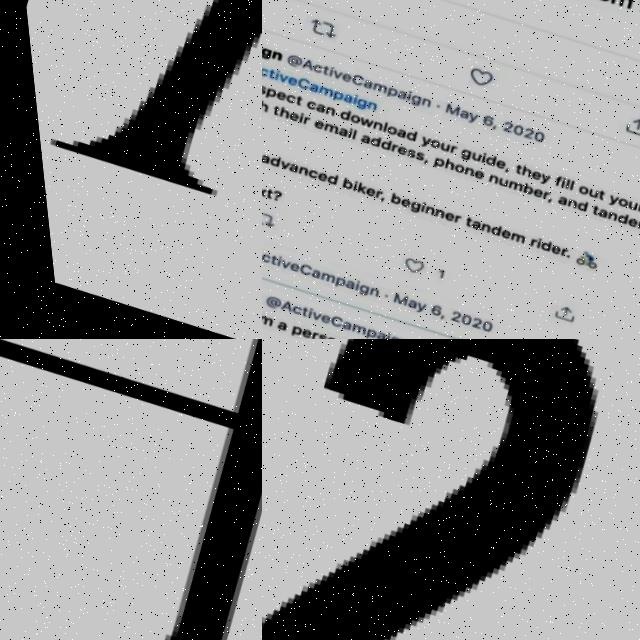2: (262, 339, 640, 640), (475, 118, 489, 132), (419, 307, 433, 321)
A: (297, 60, 311, 74), (270, 302, 285, 314), (281, 164, 293, 176), (357, 82, 368, 93), (303, 85, 314, 96), (337, 96, 348, 107), (309, 105, 320, 116), (332, 129, 343, 140), (354, 137, 365, 148), (549, 200, 560, 211), (301, 271, 312, 282), (397, 302, 408, 313), (392, 94, 403, 104), (390, 132, 401, 142), (589, 213, 599, 224), (334, 282, 345, 292), (331, 324, 342, 334), (266, 323, 277, 333), (454, 115, 464, 125), (463, 224, 473, 234), (365, 334, 375, 339)
B: (381, 195, 395, 209), (333, 180, 348, 193), (515, 187, 527, 200)
C: (289, 264, 305, 279), (345, 76, 361, 90), (292, 79, 306, 93), (319, 317, 334, 330), (279, 95, 292, 107), (300, 170, 313, 182), (300, 102, 312, 114), (281, 306, 293, 317), (308, 66, 319, 77)
D: (318, 174, 333, 188), (363, 137, 377, 151), (372, 141, 387, 154), (332, 111, 346, 124), (398, 133, 412, 146), (477, 158, 491, 171), (481, 228, 495, 241), (568, 205, 580, 218), (609, 218, 621, 231), (531, 244, 543, 257), (263, 157, 275, 169)
E: (269, 92, 282, 104), (281, 113, 294, 125), (357, 189, 370, 201), (524, 193, 537, 204), (392, 201, 405, 212), (435, 215, 448, 226), (491, 234, 504, 245), (489, 164, 500, 175), (280, 264, 291, 275), (281, 78, 292, 88), (524, 176, 535, 186), (308, 122, 319, 132), (390, 148, 400, 159), (466, 174, 477, 184), (310, 174, 321, 184), (541, 250, 552, 260), (310, 316, 321, 326), (337, 76, 347, 86), (619, 224, 629, 234), (290, 330, 300, 339)
F: (632, 3, 640, 21), (546, 181, 556, 192)
G: (452, 152, 466, 166), (401, 204, 415, 218), (350, 101, 364, 114), (347, 287, 361, 300), (404, 98, 416, 110), (262, 48, 268, 62)
H: (0, 339, 262, 640), (273, 108, 285, 121), (436, 162, 448, 175), (514, 170, 526, 182)
I: (527, 243, 534, 254), (323, 69, 330, 79), (400, 95, 407, 105), (269, 72, 276, 82), (346, 97, 353, 107), (473, 157, 480, 167), (340, 131, 347, 141), (345, 184, 352, 194), (412, 206, 419, 216), (297, 310, 304, 320), (267, 258, 274, 268), (344, 283, 351, 293), (553, 183, 559, 194), (293, 115, 299, 125), (374, 335, 381, 339)
K: (349, 185, 361, 197)
L: (376, 125, 383, 135), (561, 186, 568, 196), (557, 184, 563, 195), (345, 132, 351, 142)
M: (606, 0, 630, 16), (438, 106, 456, 121), (366, 85, 383, 98), (312, 88, 329, 101), (500, 185, 517, 198), (501, 236, 518, 249), (311, 274, 328, 287), (340, 325, 357, 338), (316, 125, 333, 137), (384, 296, 399, 309), (628, 226, 640, 238)
N: (558, 203, 571, 215), (266, 52, 279, 63), (415, 101, 426, 112), (361, 104, 372, 115), (481, 178, 492, 189), (427, 212, 438, 223), (472, 227, 483, 238), (367, 124, 377, 135), (457, 170, 467, 181), (598, 217, 609, 227), (291, 168, 302, 178), (360, 290, 370, 301), (417, 209, 427, 219), (319, 110, 330, 118)
O: (590, 0, 609, 10), (380, 128, 393, 140), (608, 203, 621, 215), (446, 167, 459, 178), (423, 143, 434, 153), (570, 191, 580, 200), (344, 118, 355, 126)
P: (381, 90, 393, 103), (280, 327, 293, 339), (326, 93, 338, 105), (426, 161, 438, 173), (325, 280, 336, 291), (262, 89, 271, 101), (355, 331, 366, 339)
R: (296, 117, 305, 128), (534, 195, 543, 206), (367, 192, 376, 203), (384, 146, 393, 156), (445, 218, 454, 228), (520, 243, 529, 253), (551, 253, 560, 263), (442, 149, 451, 158), (629, 211, 638, 219), (299, 333, 308, 339)
S: (407, 154, 420, 165), (399, 152, 410, 162), (306, 335, 317, 339)
T: (262, 69, 271, 81), (317, 67, 326, 78), (507, 168, 516, 179), (589, 196, 598, 207), (290, 308, 299, 319), (266, 107, 275, 117), (583, 211, 592, 221), (456, 221, 465, 231), (290, 98, 298, 108), (262, 256, 269, 267), (582, 0, 596, 5), (262, 190, 265, 200)
U: (580, 194, 591, 204), (490, 182, 501, 192), (620, 208, 631, 217), (433, 147, 443, 155), (464, 157, 474, 165)
V: (272, 75, 285, 86), (271, 261, 282, 272), (272, 163, 283, 173), (301, 313, 312, 323), (327, 74, 338, 82)
W: (352, 119, 369, 132)
Y: (599, 199, 613, 214), (412, 139, 426, 153), (532, 179, 544, 191), (461, 117, 473, 129), (405, 306, 417, 318)
